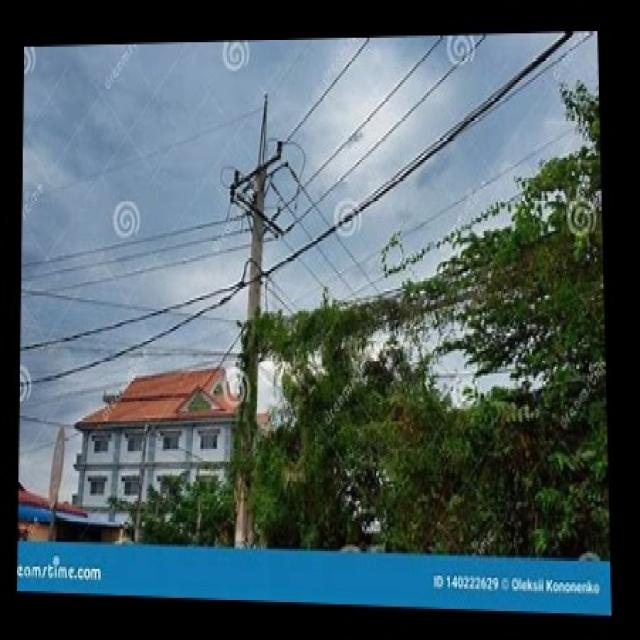critical vegetation: (255, 268, 603, 410)
